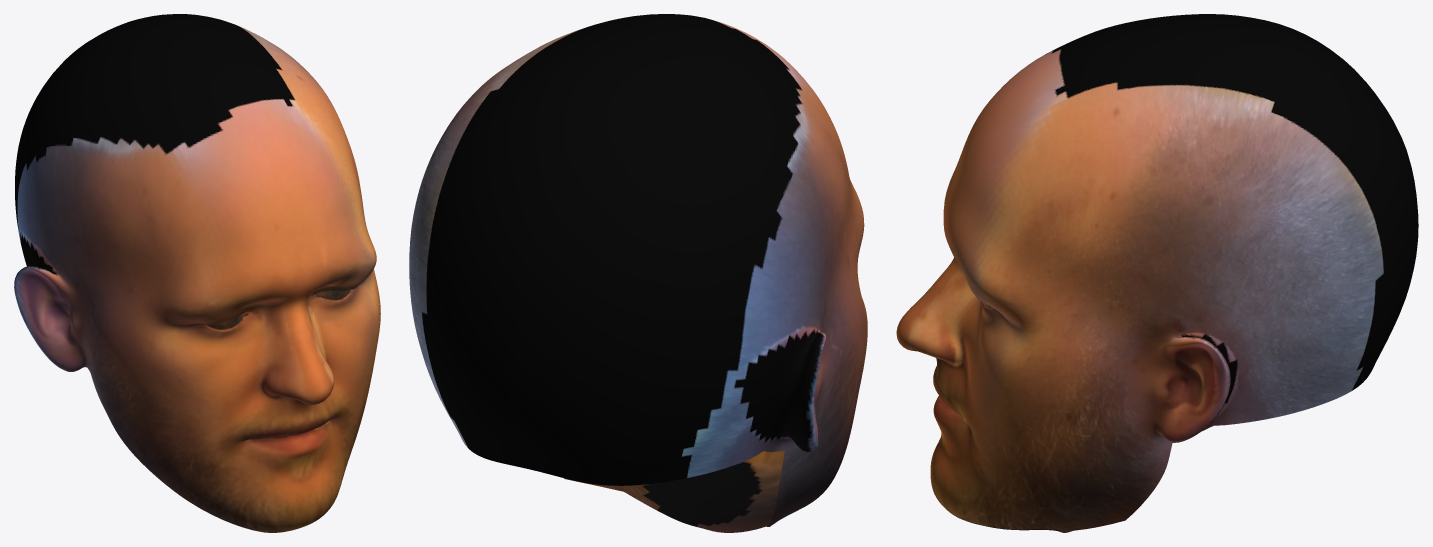
File: headModelNew.glb
The picture shows the model from 3 angles, left to right: view 1: azimuth 30°, elevation 25°; view 2: azimuth 150°, elevation 25°; view 3: azimuth 270°, elevation 25°; orthographic projection. The views are drawn at different scales.
Parts seen in each view (by area): view 1: FaceBuilderHead; view 2: FaceBuilderHead; view 3: FaceBuilderHead.
Boxes of the visible parts, <box> form: FaceBuilderHead: <box>14,14,380,532</box>; FaceBuilderHead: <box>409,14,867,532</box>; FaceBuilderHead: <box>896,14,1418,532</box>.
Bounding box in the file's own units: 1.78 × 2.3 × 2.21.
Materials: 1 (1 with a texture image).
